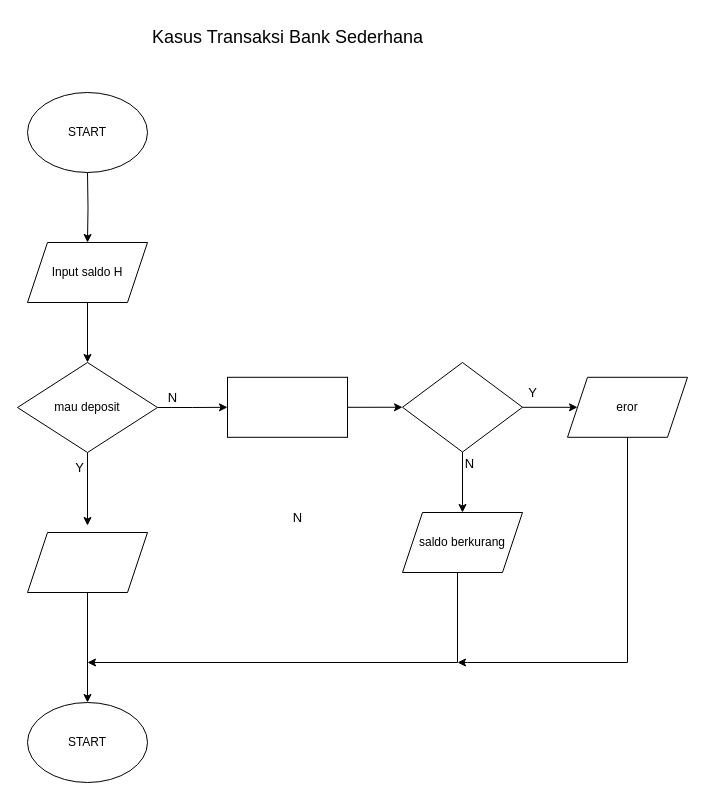
Some shapes in this 705 by 800 pixel diagram are drawn without their labels. The centre of each missing label's shape, as x and y in pixels:
"pengambilan melebihi saldo H" belongs at point 462,407.
"saldo bertambah" belongs at point 87,562.
"withdraw" belongs at point 287,406.
